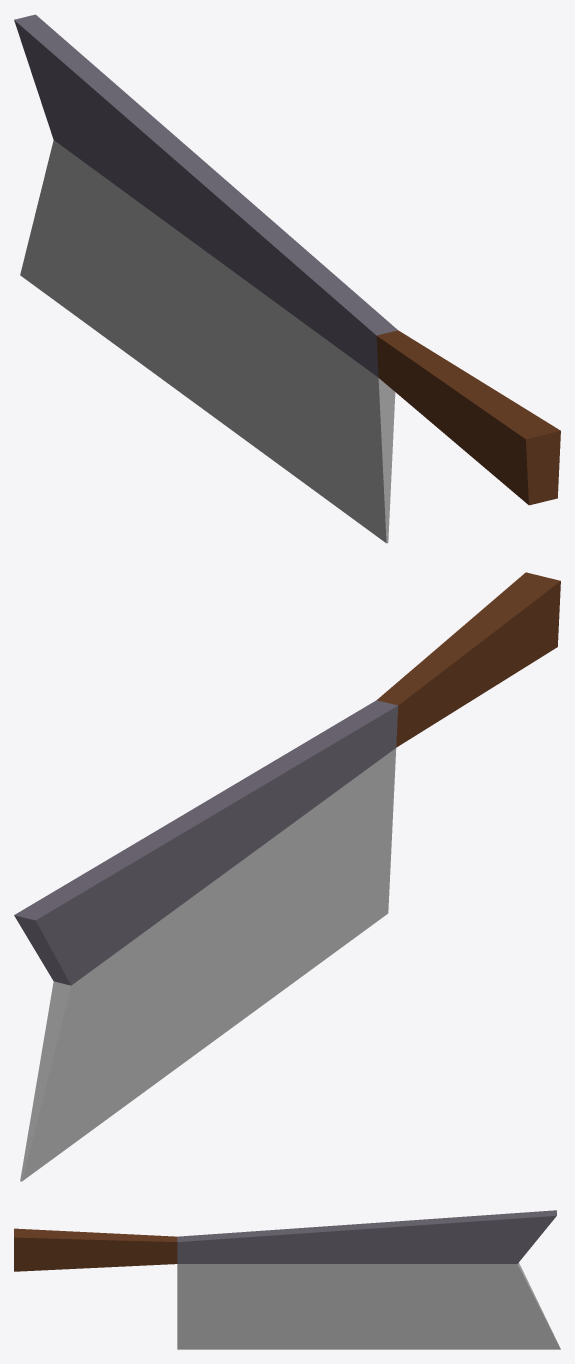
The model's file is Res01_Knife5.fbx.
3 renders of one model, top to bottom at view 1: azimuth 30°, elevation 25°; view 2: azimuth 150°, elevation 25°; view 3: azimuth 270°, elevation 25°, orthographic. The views are drawn at different scales.
Parts seen in each view (by area): view 1: Res01_Knife5; view 2: Res01_Knife5; view 3: Res01_Knife5.
Boxes of the visible parts, x1=… form: Res01_Knife5: x1=14, y1=14, x2=560, y2=543; Res01_Knife5: x1=14, y1=572, x2=560, y2=1181; Res01_Knife5: x1=14, y1=1210, x2=560, y2=1349.
Size of the model in its own units: 3.32 by 23.55 by 85.51.
